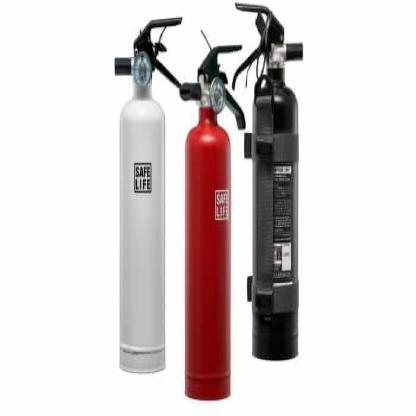Fire Extinguisher: (179, 22, 243, 414), (244, 1, 311, 370), (113, 9, 170, 377)
